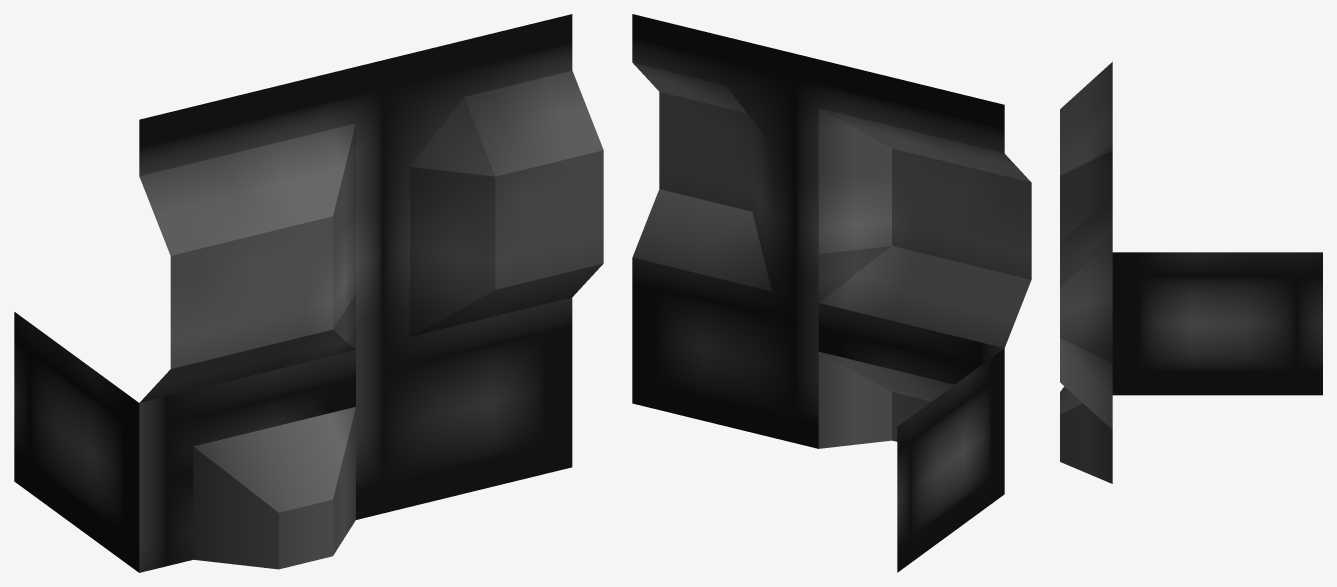
The model's file is door_frame_top_right.obj.
3 renders of one model, left to right at view 1: azimuth 30°, elevation 25°; view 2: azimuth 150°, elevation 25°; view 3: azimuth 270°, elevation 25°, orthographic. The views are drawn at different scales.
Parts seen in each view (by area): view 1: Default; view 2: Default; view 3: Default.
Part boxes in pixels (x1=…): Default: x1=14, y1=14, x2=603, y2=572; Default: x1=632, y1=14, x2=1031, y2=572; Default: x1=1060, y1=62, x2=1322, y2=483.
Size of the model in its own units: 1 by 1 by 0.625.
